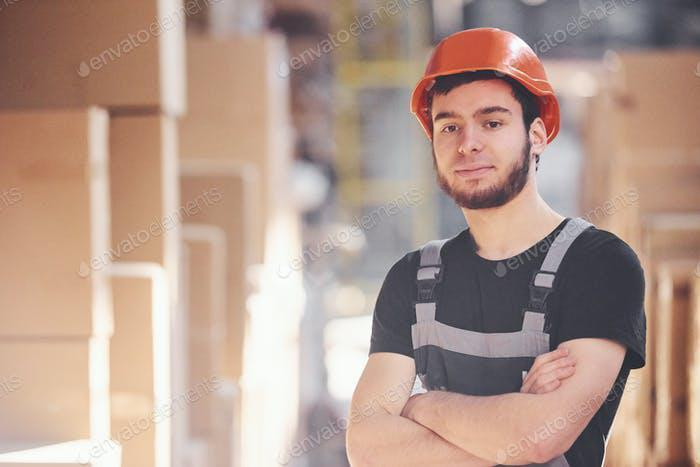helmet: (410, 26, 561, 142)
